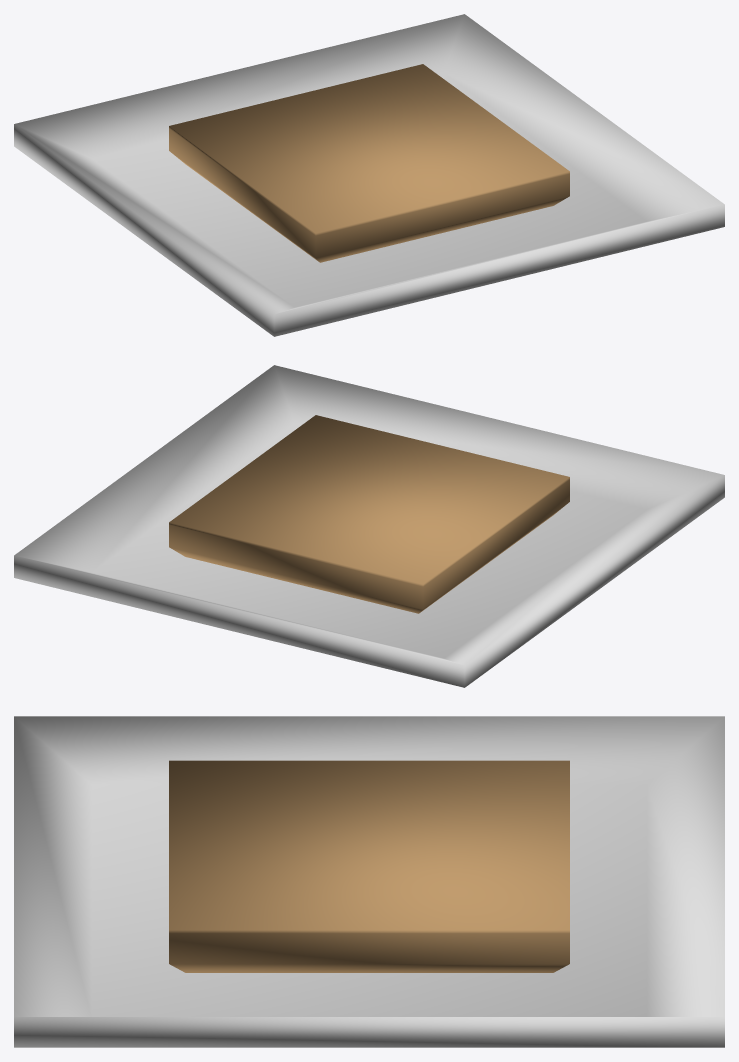
The model's file is platebun.glb.
3 renders of one model, top to bottom at view 1: azimuth 30°, elevation 25°; view 2: azimuth 150°, elevation 25°; view 3: azimuth 270°, elevation 25°, orthographic. The views are drawn at different scales.
Visible parts, largest first — view 1: Plate, Bottom bun; view 2: Plate, Bottom bun; view 3: Plate, Bottom bun.
Boxes of the visible parts, x1,y1,x2,y2 form: Plate: [14, 14, 724, 336]; Bottom bun: [169, 64, 569, 262]; Plate: [14, 365, 724, 687]; Bottom bun: [169, 415, 569, 613]; Plate: [14, 716, 724, 1047]; Bottom bun: [169, 760, 569, 972].
Bounding box in the file's own units: 17.74 × 1.86 × 17.74.
